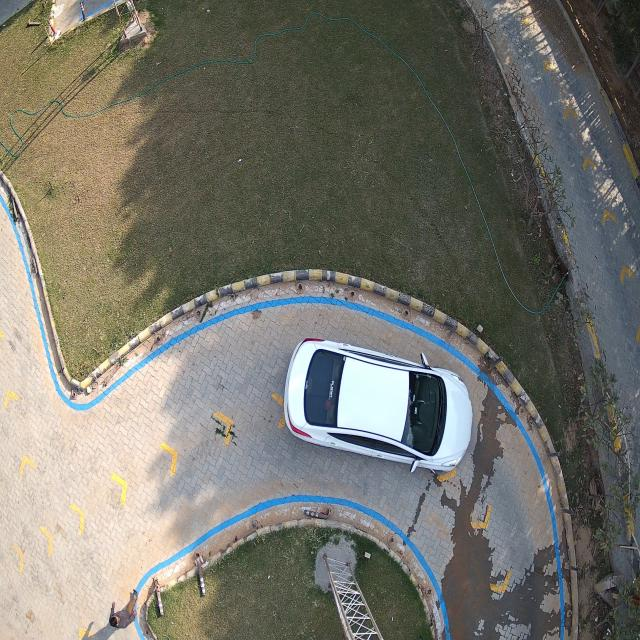car: (285, 340, 472, 472)
